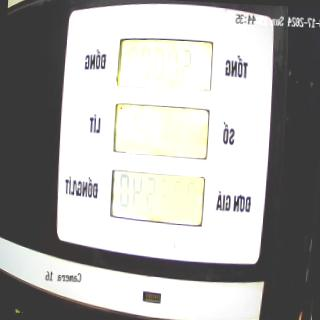screen: (108, 29, 215, 232)
